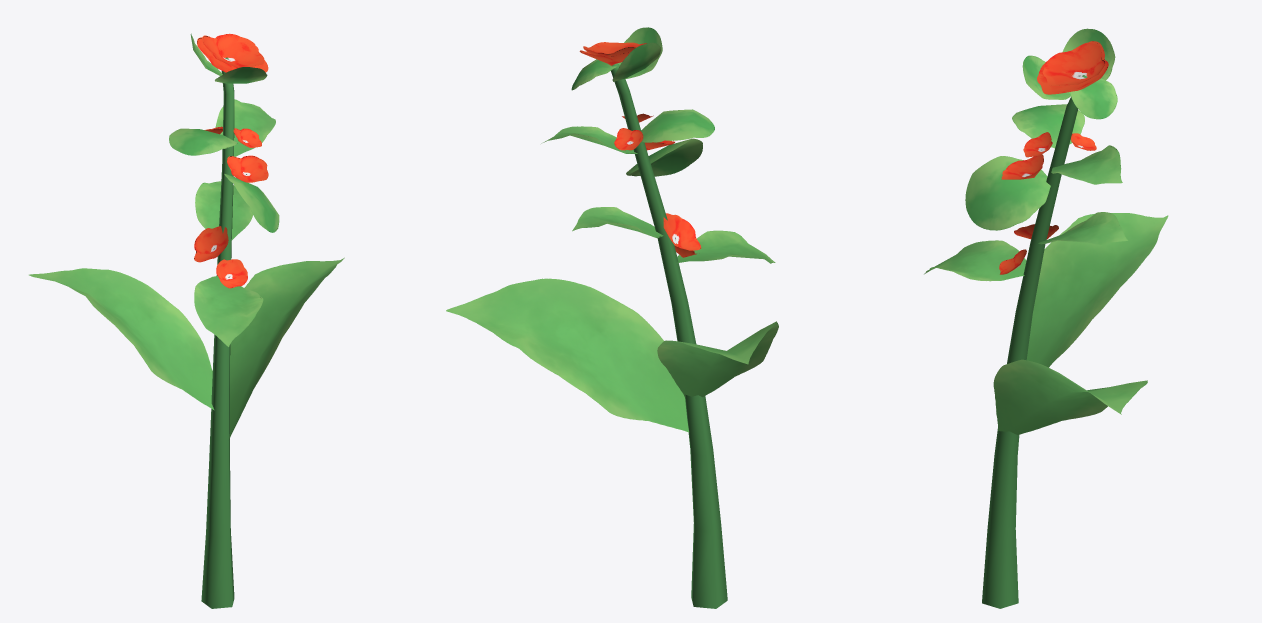
The model's file is SM_plant_flowers_02.fbx.
3 renders of one model, left to right at view 1: azimuth 30°, elevation 25°; view 2: azimuth 150°, elevation 25°; view 3: azimuth 270°, elevation 25°, orthographic. The views are drawn at different scales.
Visible parts, largest first — view 1: Object32313; view 2: Object32313; view 3: Object32313.
Boxes of the visible parts, x1,y1,x2,y2 form: Object32313: (29, 33, 344, 608); Object32313: (446, 27, 778, 608); Object32313: (924, 28, 1168, 608).
Size of the model in its own units: 25.5 by 36.31 by 20.38.
